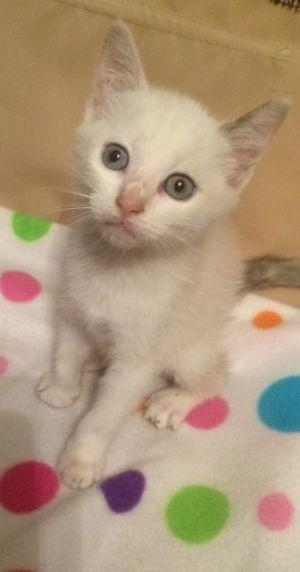siamese: (61, 17, 296, 258)
